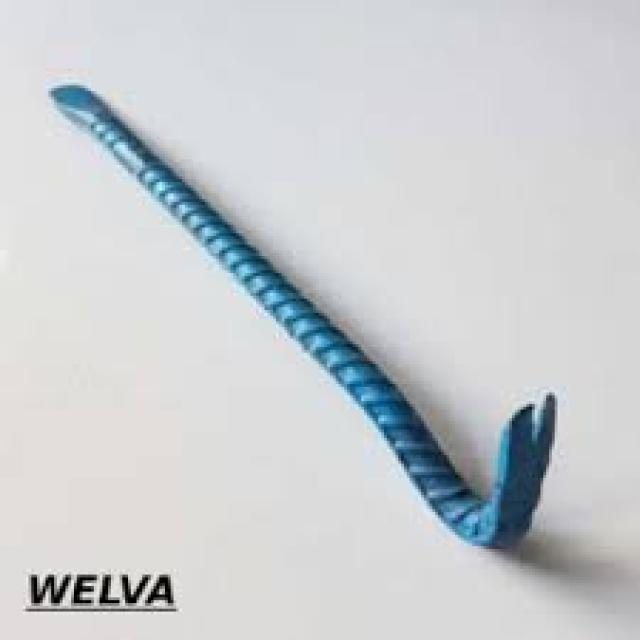Linggis: (44, 70, 566, 556)
